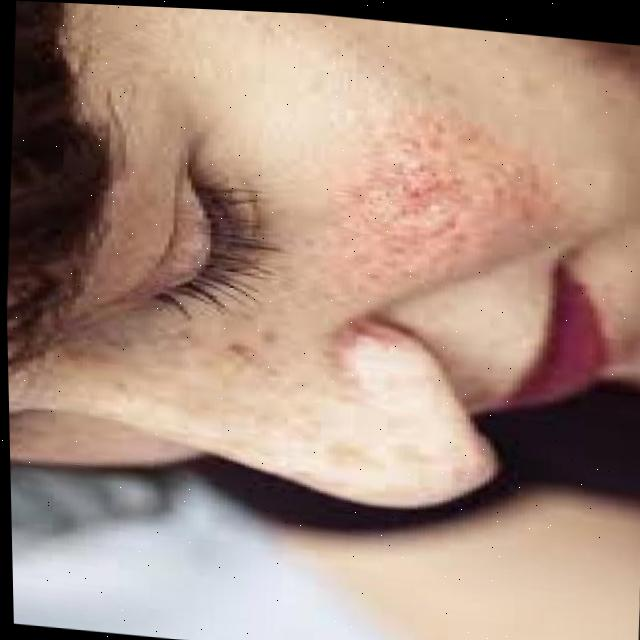Rosacea: (310, 114, 510, 305)
